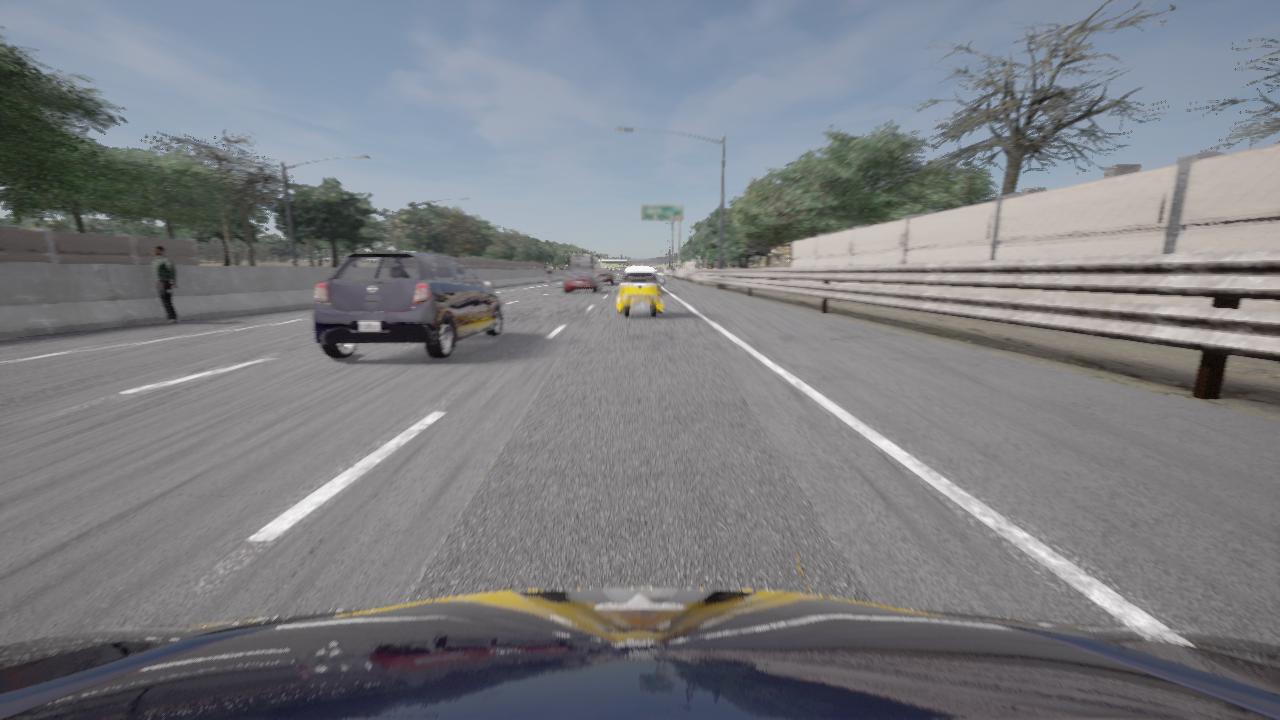cyclist: (0, 588, 1279, 719), (313, 252, 501, 358), (615, 267, 664, 317), (563, 270, 601, 292), (565, 253, 597, 276), (594, 269, 614, 284), (547, 277, 550, 286)
pedestrian: (151, 244, 177, 324)
